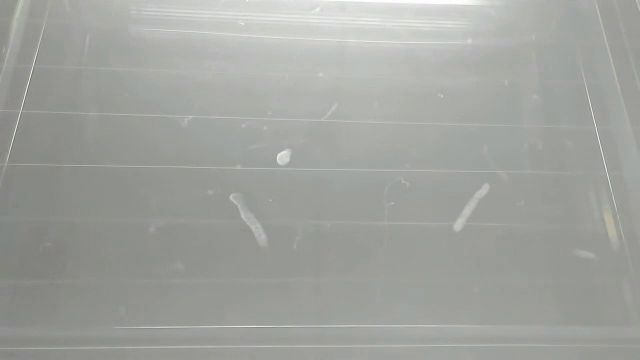alpha: (226, 190, 270, 249), (449, 179, 494, 236), (272, 143, 296, 169)
